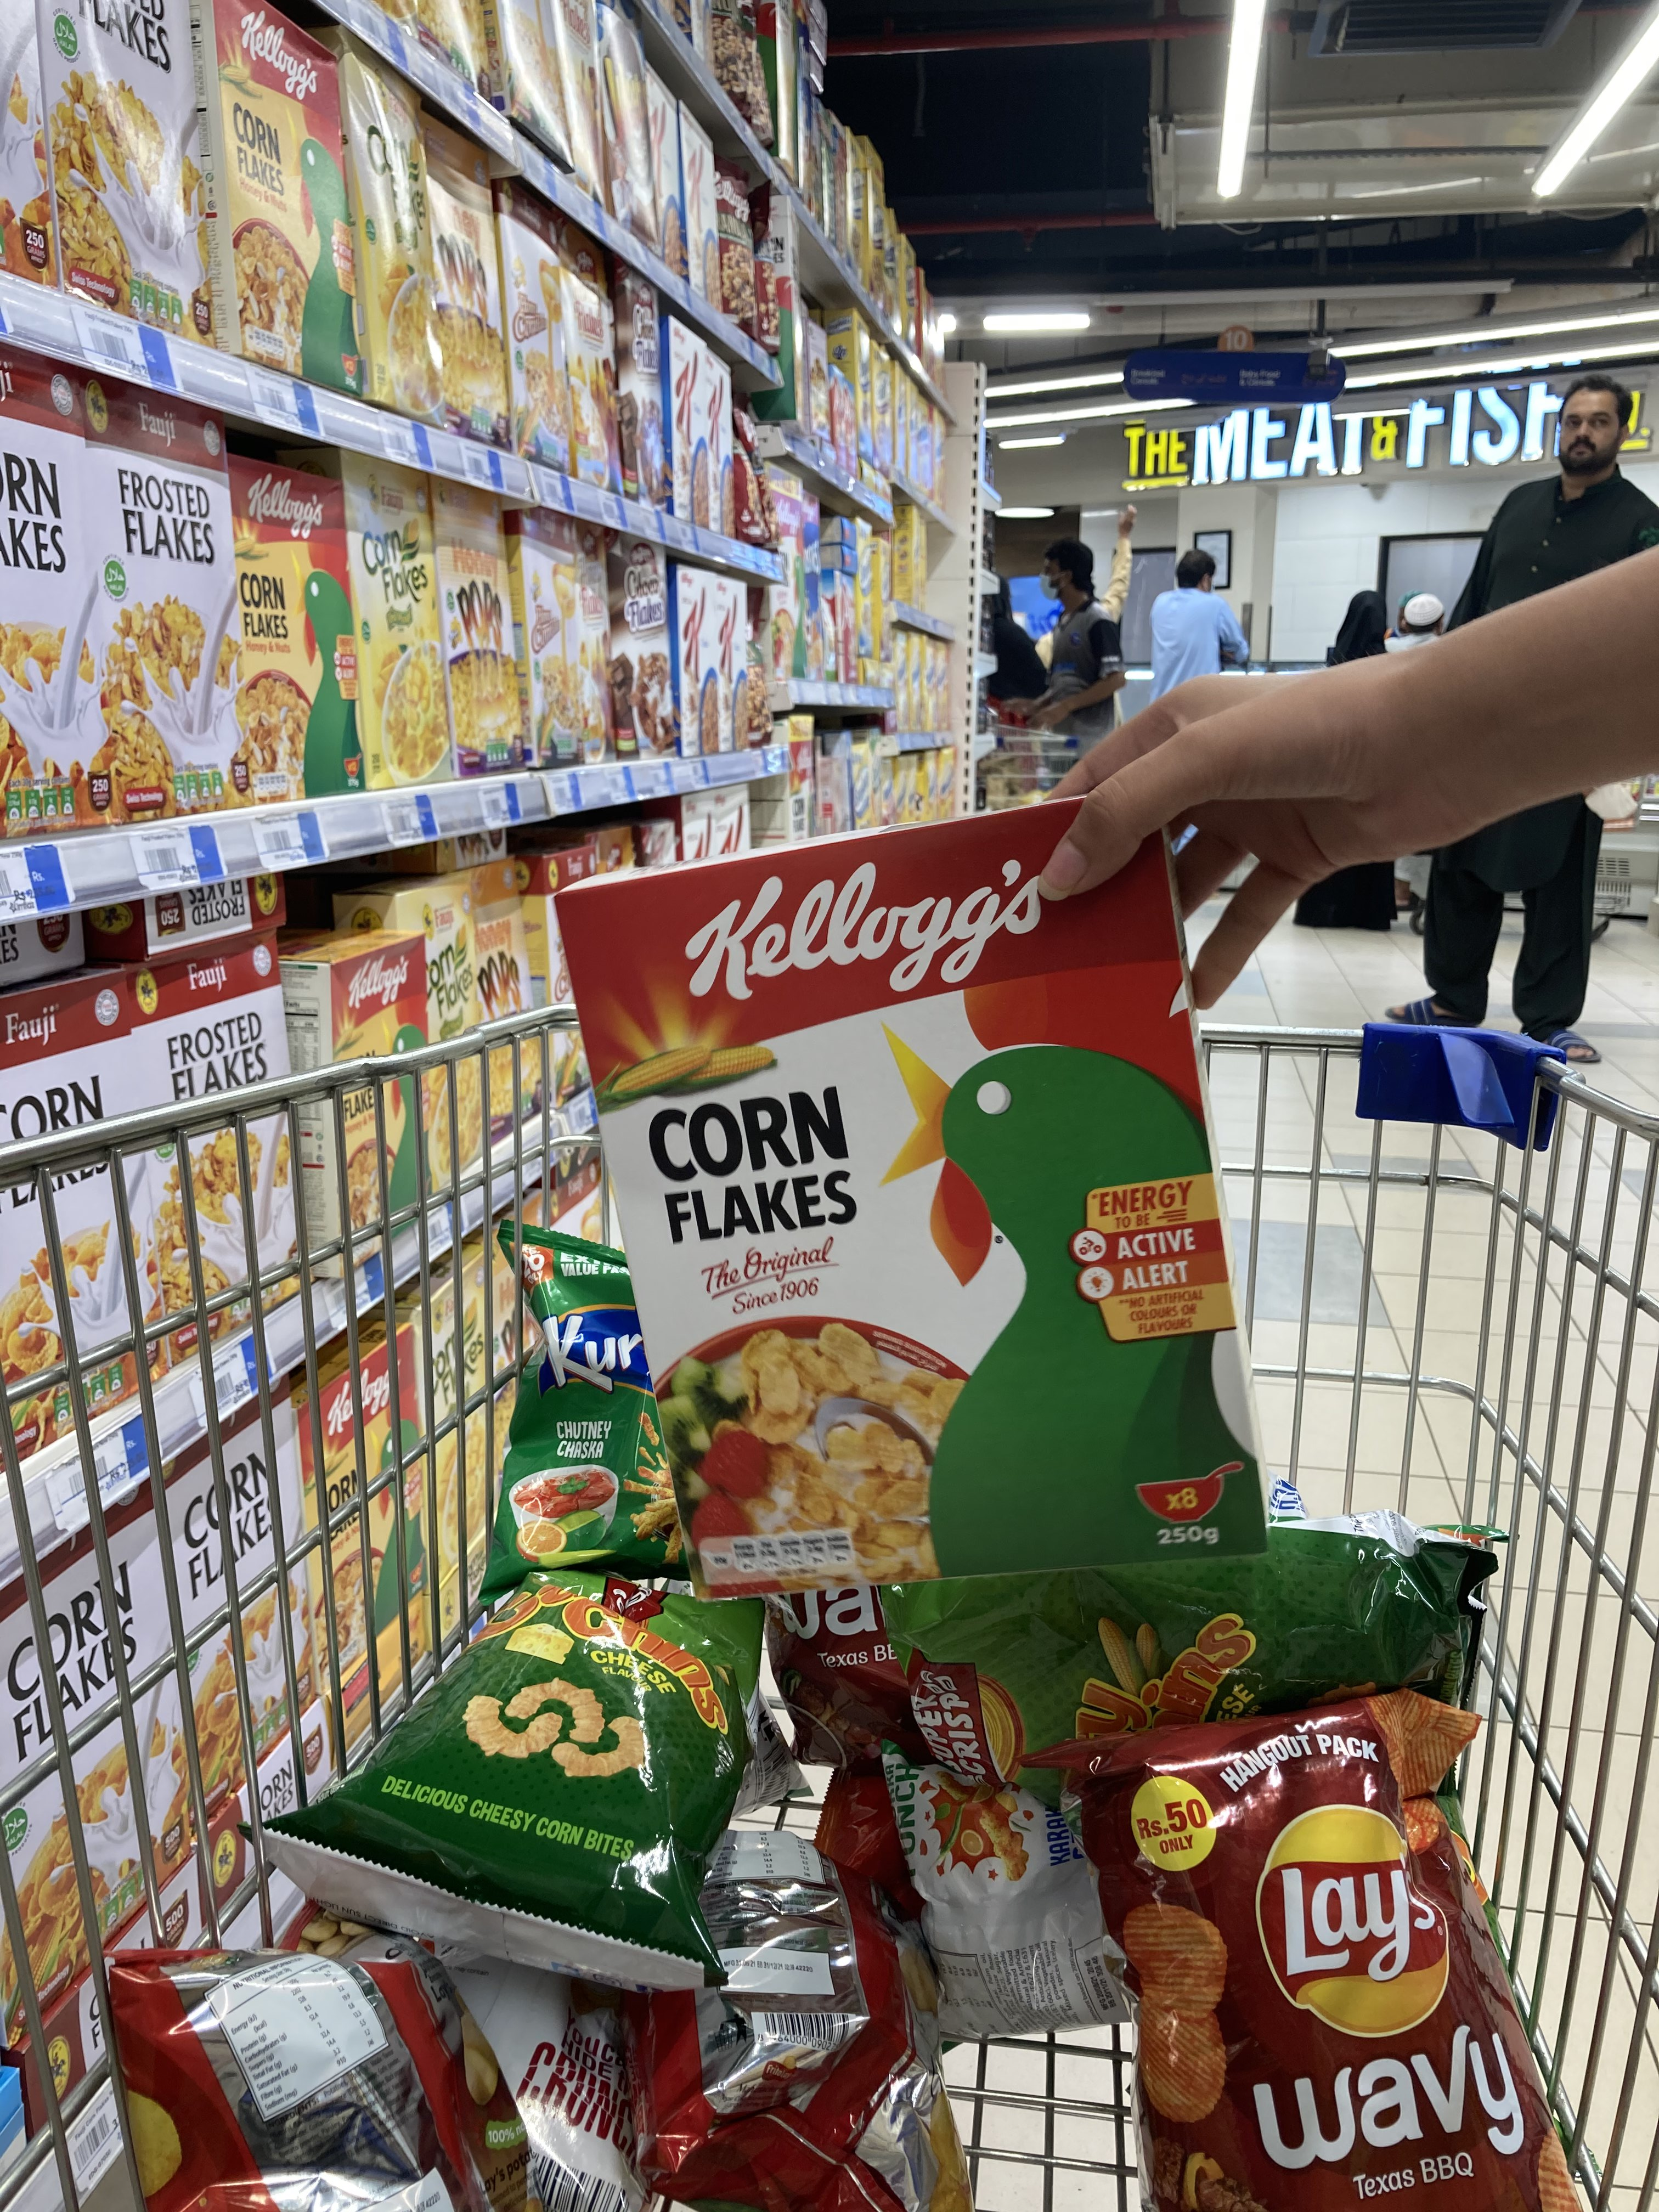Kellogg's Corn Flakes: (547, 798, 1284, 1613)
